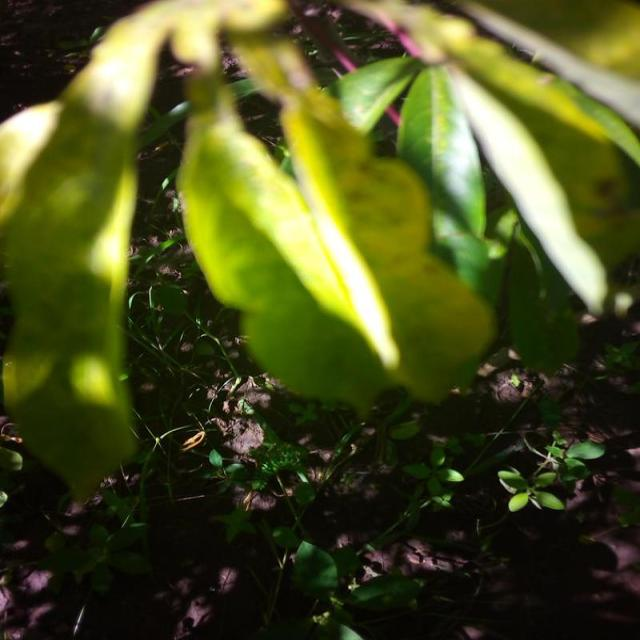cassava leaf: (0, 0, 637, 501), (175, 38, 498, 417)
